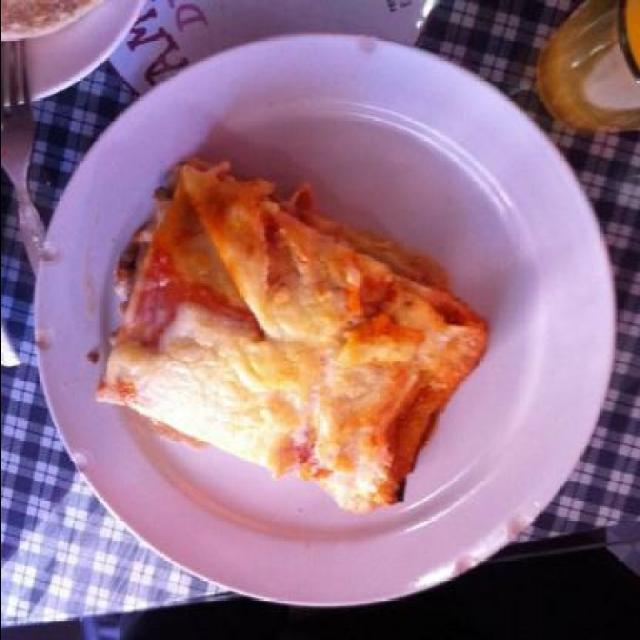Lasagna: (92, 161, 474, 519)
